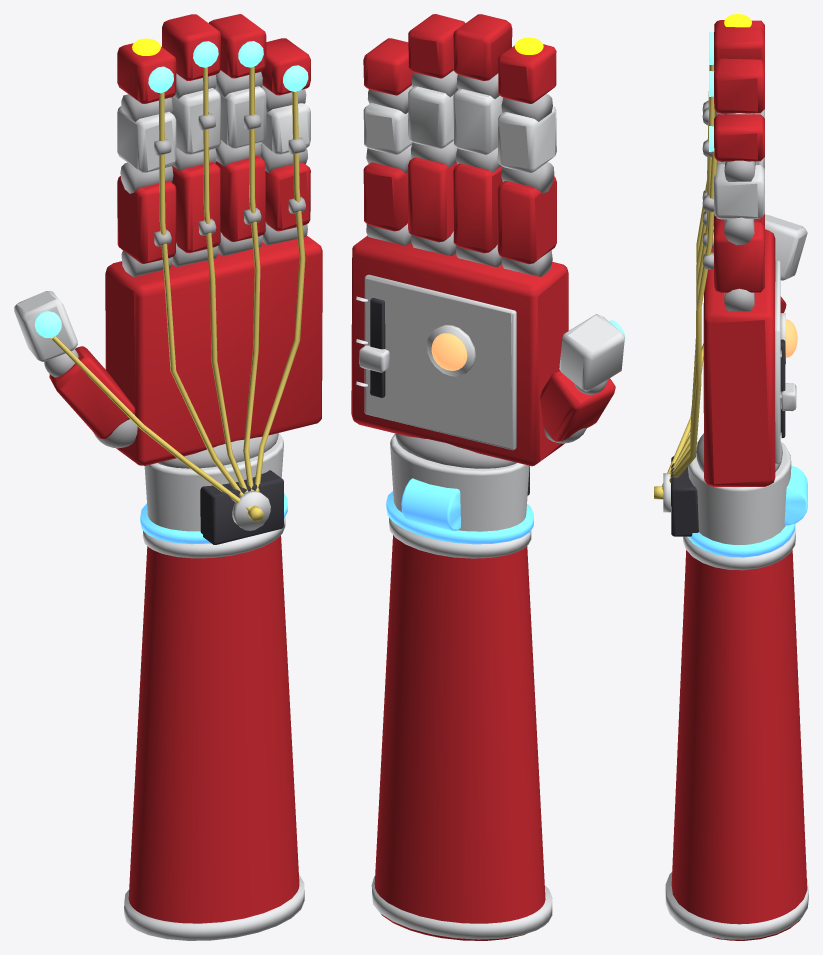
Rendered from Protesis_Mano_V3_LOD1.fbx.
3 renders of one model, left to right at view 1: azimuth 30°, elevation 25°; view 2: azimuth 150°, elevation 25°; view 3: azimuth 270°, elevation 25°, orthographic. The views are drawn at different scales.
Visible parts, largest first — view 1: Antebrazo_LOD1, Palma_LOD1, Muneca_Conector_LOD1, Indice_Proximal_LOD1, Pulgar_Proximal_LOD1, Antebrazo_Anillo_Base_LOD1, F2_Servomotor_LOD1, Medio_Proximal_LOD1, Anular_Proximal_LOD1, Indice_Media_LOD1, Medio_Distal_LOD1, F2_Cable_Medio_LOD1 (+22 smaller); view 2: Antebrazo_LOD1, Palma_Placa_Dorso_LOD1, Palma_LOD1, Muneca_Conector_LOD1, Indice_Proximal_LOD1, Medio_Proximal_LOD1, Pulgar_Distal_LOD1, Anular_Proximal_LOD1, Antebrazo_Anillo_Base_LOD1, Pulgar_Proximal_LOD1, Indice_Media_LOD1, Medio_Distal_LOD1 (+27 smaller); view 3: Antebrazo_LOD1, Palma_LOD1, Muneca_Conector_LOD1, Menique_Proximal_LOD1, Anular_Distal_LOD1, Antebrazo_Anillo_Base_LOD1, Menique_Distal_LOD1, Menique_Media_LOD1, F2_Cable_Menique_LOD1, Medio_Distal_LOD1, F2_Servomotor_LOD1, Pulgar_Distal_LOD1 (+14 smaller).
Part boxes in pixels (box(x1,y1,x2,y2)): Antebrazo_LOD1: box(128, 535, 299, 923); Palma_LOD1: box(105, 236, 322, 465); Muneca_Conector_LOD1: box(144, 434, 283, 531); Indice_Proximal_LOD1: box(117, 176, 176, 263); Pulgar_Proximal_LOD1: box(49, 346, 135, 438); Antebrazo_Anillo_Base_LOD1: box(124, 875, 304, 940); F2_Servomotor_LOD1: box(200, 470, 283, 544); Medio_Proximal_LOD1: box(171, 162, 220, 253); Anular_Proximal_LOD1: box(215, 155, 265, 241); Indice_Media_LOD1: box(117, 106, 176, 172); Medio_Distal_LOD1: box(162, 14, 220, 80); F2_Cable_Medio_LOD1: box(203, 67, 253, 506); Antebrazo_LOD1: box(374, 535, 545, 940); Palma_Placa_Dorso_LOD1: box(364, 274, 516, 450); Palma_LOD1: box(351, 235, 568, 466); Muneca_Conector_LOD1: box(390, 433, 529, 531); Indice_Proximal_LOD1: box(497, 176, 556, 264); Medio_Proximal_LOD1: box(453, 163, 502, 253); Pulgar_Distal_LOD1: box(559, 314, 624, 391); Anular_Proximal_LOD1: box(408, 157, 457, 242); Antebrazo_Anillo_Base_LOD1: box(371, 876, 552, 939); Pulgar_Proximal_LOD1: box(540, 370, 615, 441); Indice_Media_LOD1: box(497, 106, 556, 173); Medio_Distal_LOD1: box(453, 14, 512, 80); Antebrazo_LOD1: box(671, 550, 807, 940); Palma_LOD1: box(703, 229, 775, 486); Muneca_Conector_LOD1: box(688, 441, 791, 544); Menique_Proximal_LOD1: box(714, 221, 764, 292); Anular_Distal_LOD1: box(714, 58, 764, 113); Antebrazo_Anillo_Base_LOD1: box(665, 871, 808, 939); Menique_Distal_LOD1: box(714, 114, 764, 161); Menique_Media_LOD1: box(714, 164, 764, 219); F2_Cable_Menique_LOD1: box(662, 151, 717, 490); Medio_Distal_LOD1: box(714, 27, 764, 70); F2_Servomotor_LOD1: box(671, 456, 698, 536); Pulgar_Distal_LOD1: box(765, 214, 807, 280).
Bounding box in the file's own units: 2.34 × 7.35 × 1.2.
